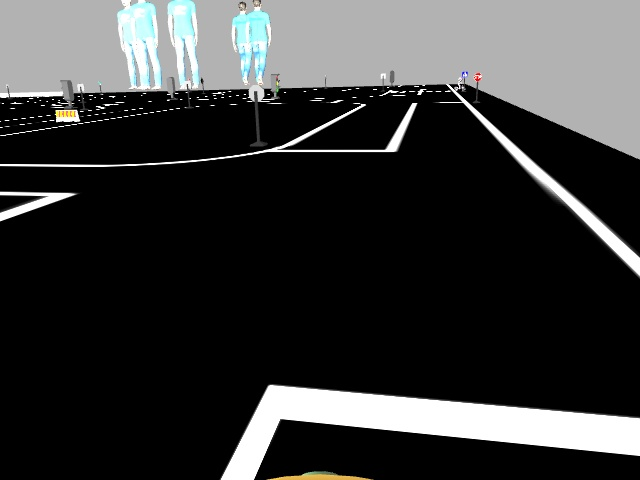ClosedRoadStand: (51, 109, 80, 123)
Stop: (472, 71, 484, 82)
TrafficLight: (269, 71, 279, 93)
